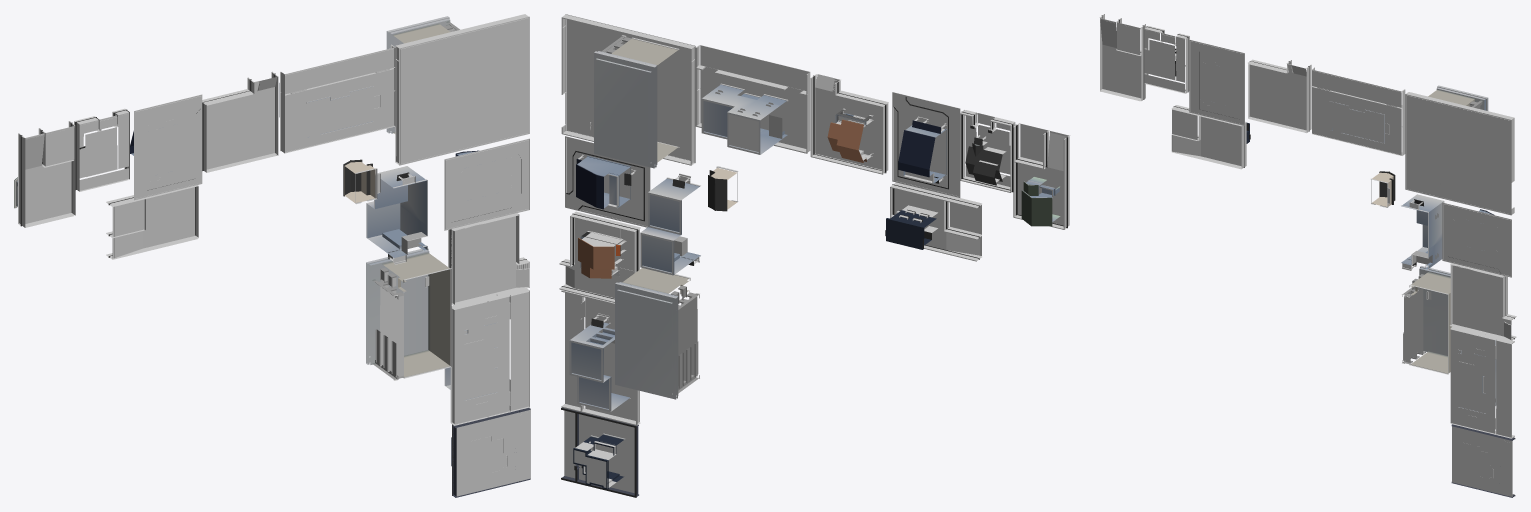
File: SM_000294_merge_w40h102_atlas1_1_8_lv2.fbx
The picture shows the model from 3 angles, left to right: view 1: azimuth 30°, elevation 25°; view 2: azimuth 150°, elevation 25°; view 3: azimuth 330°, elevation 25°; orthographic projection. The views are drawn at different scales.
Parts seen in each view (by area): view 1: SM_000294.001; view 2: SM_000294.001; view 3: SM_000294.001.
Part boxes in pixels (box(x1,y1,x2,y2)): SM_000294.001: box(14, 14, 530, 497); SM_000294.001: box(559, 14, 1070, 497); SM_000294.001: box(1099, 14, 1516, 497).
Bounding box in the file's own units: 128 × 113 × 16.22.
